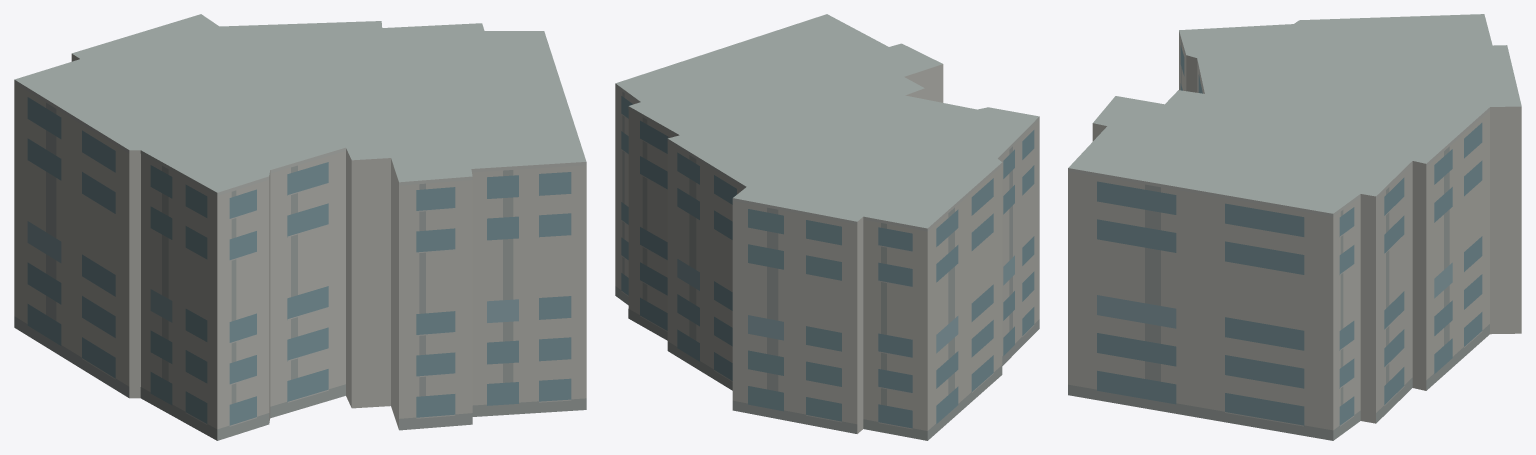
The model's file is survey-upis-32833915.glb.
The picture shows the model from 3 angles, left to right: view 1: azimuth 30°, elevation 25°; view 2: azimuth 150°, elevation 25°; view 3: azimuth 270°, elevation 25°; orthographic projection. The views are drawn at different scales.
Parts seen in each view (by area): view 1: survey-upis-32833915.tmp; view 2: survey-upis-32833915.tmp; view 3: survey-upis-32833915.tmp.
Boxes of the visible parts, x1=… form: survey-upis-32833915.tmp: x1=14, y1=14, x2=586, y2=440; survey-upis-32833915.tmp: x1=615, y1=14, x2=1039, y2=440; survey-upis-32833915.tmp: x1=1068, y1=14, x2=1521, y2=440.
Size of the model in its own units: 32.46 by 17.2 by 31.15.
